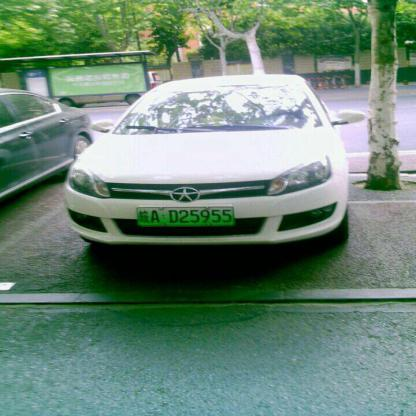lp: (137, 206, 234, 226)
